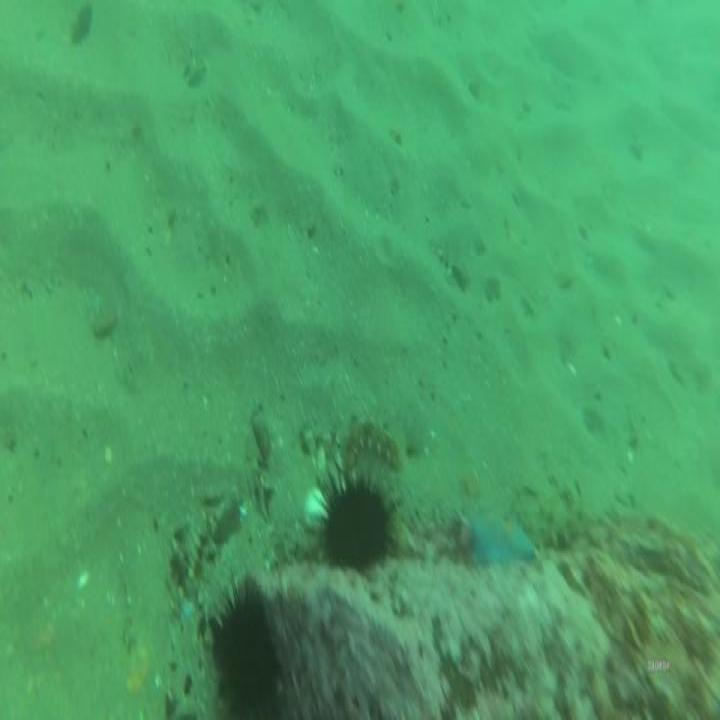echinus: (207, 579, 292, 720), (318, 477, 392, 583)
holothurian: (522, 489, 588, 547), (343, 422, 399, 470)
starfish: (459, 498, 541, 580)
